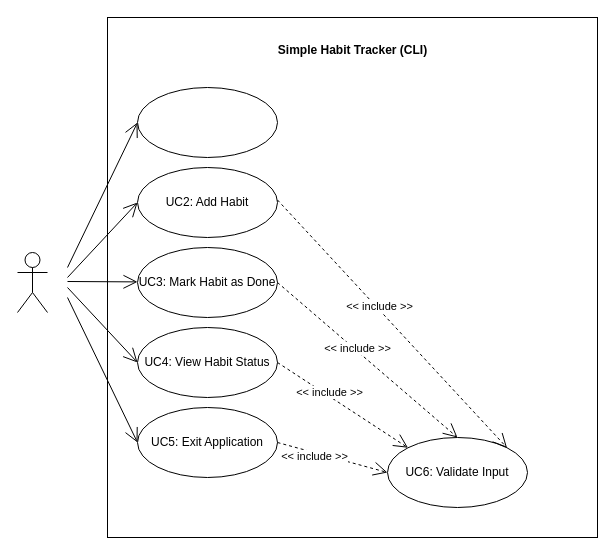
Image size: 615x555. Some labels were removed from this diagram. Each missing label, with the centre of its shape:
UC1: Start Application: the point at 207,122
User: the point at 32,282
